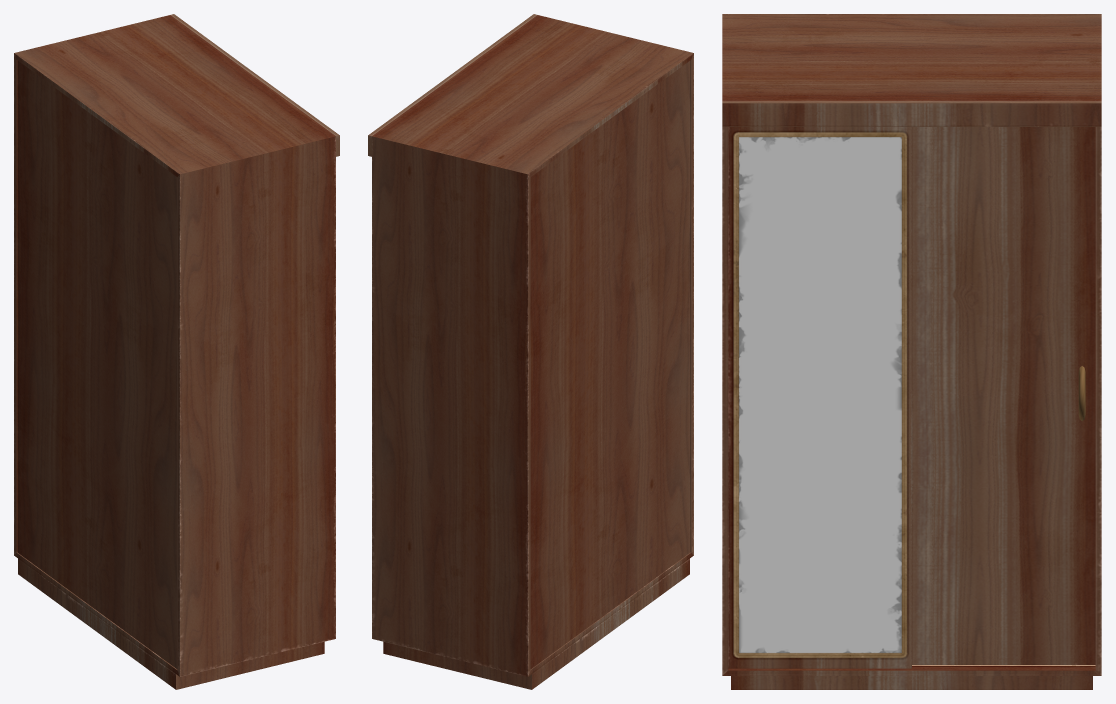
File: wardrobe.glb
The picture shows the model from 3 angles, left to right: view 1: azimuth 30°, elevation 25°; view 2: azimuth 150°, elevation 25°; view 3: azimuth 270°, elevation 25°; orthographic projection. The views are drawn at different scales.
Visible parts, largest first — view 1: WardobeLP001_Material #25_0; view 2: WardobeLP001_Material #25_0; view 3: WardobeLP001_Material #25_0, Door_Material #25_0.
Part boxes in pixels (x1,y1,x2,y2): WardobeLP001_Material #25_0: (14,14,339,689); WardobeLP001_Material #25_0: (368,14,693,689); WardobeLP001_Material #25_0: (722,14,1101,689); Door_Material #25_0: (912,127,1095,664).
Size of the model in its own units: 0.8256 by 2.56 by 1.48.
Materials: 1 (1 with a texture image).
